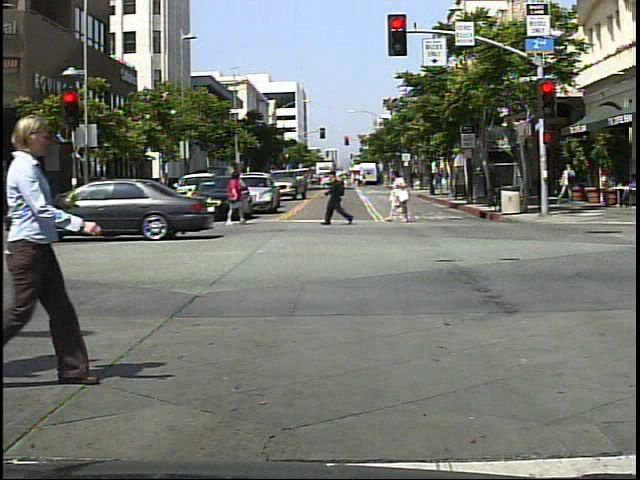person: (325, 159, 359, 231), (219, 167, 252, 228), (384, 163, 415, 227), (558, 160, 578, 204)
